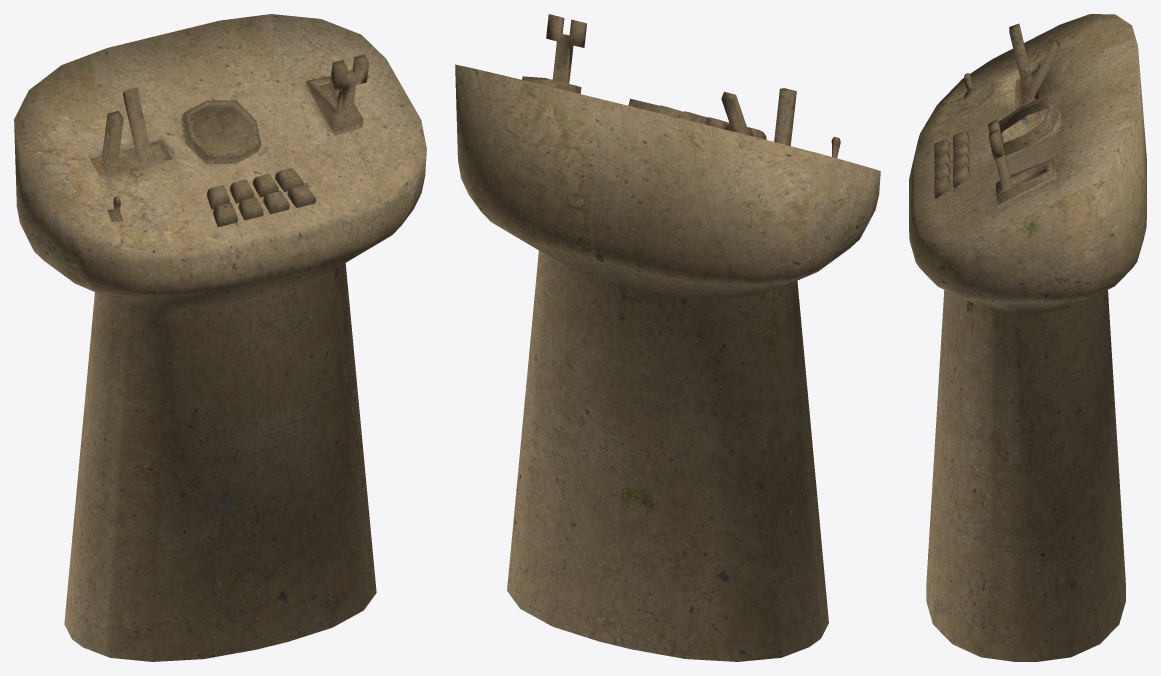
File: control panel.fbx
The picture shows the model from 3 angles, left to right: view 1: azimuth 30°, elevation 25°; view 2: azimuth 150°, elevation 25°; view 3: azimuth 270°, elevation 25°; orthographic projection. The views are drawn at different scales.
Visible parts, largest first — view 1: control panel; view 2: control panel; view 3: control panel.
Boxes of the visible parts, x1,y1,x2,y2 form: control panel: (14,14,426,661); control panel: (455,14,880,661); control panel: (909,14,1146,661).
Bounding box in the file's own units: 60.55 × 84.04 × 34.75.
Materials: 1 (1 with a texture image).
